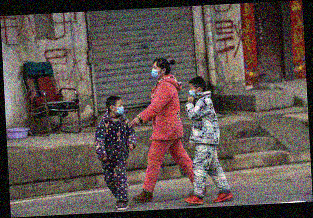with_mask: (150, 64, 161, 80), (114, 102, 125, 117), (188, 86, 197, 99)
